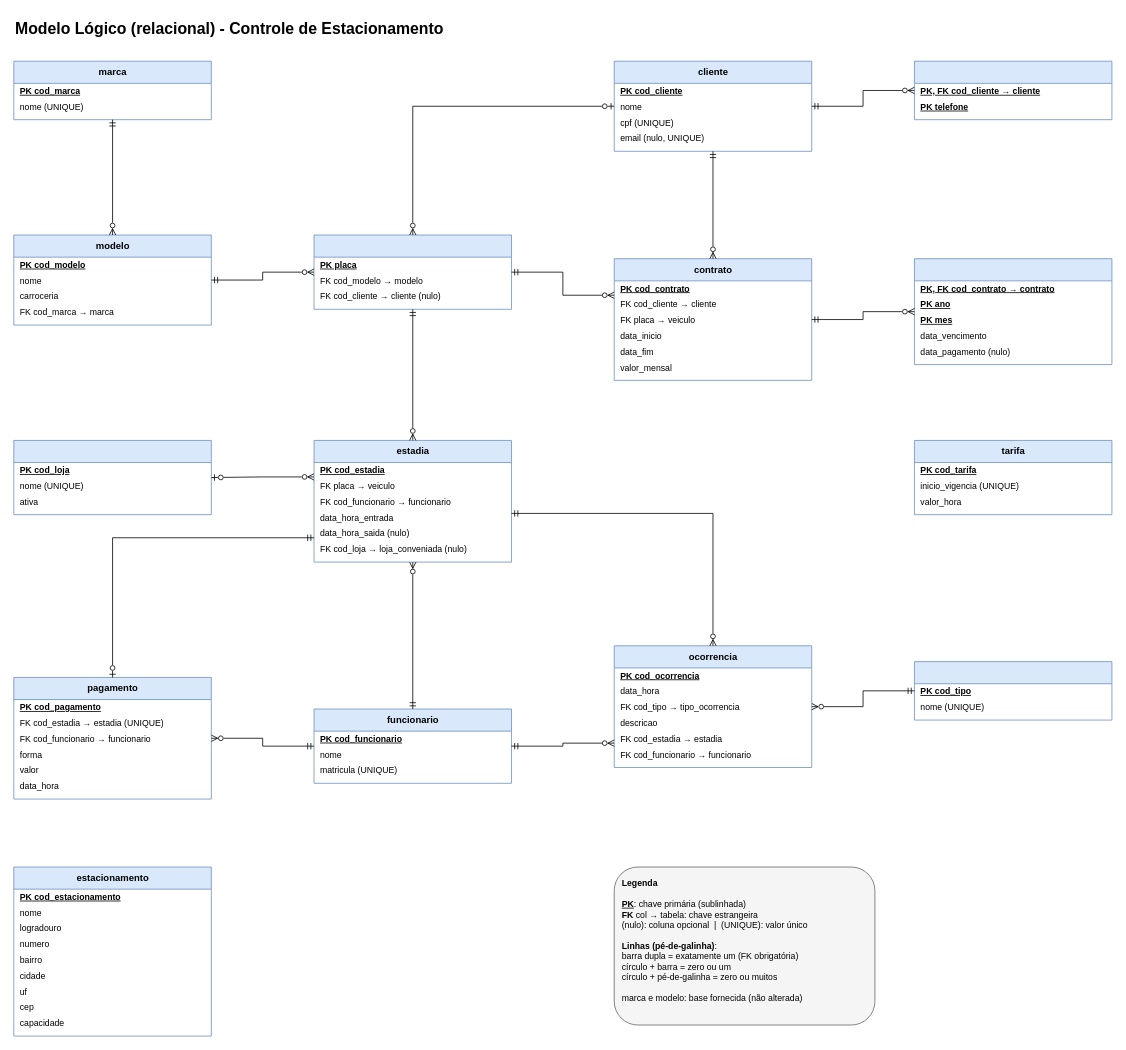
This 1126x1050 diagram has some shape labels left out. Here are the shapes that lost their labels. From the top down, the box of each, then its label:
(914, 60, 1112, 120): telefone_cliente
(313, 234, 512, 309): veiculo
(914, 258, 1112, 365): mensalidade
(13, 440, 211, 515): loja_conveniada
(914, 661, 1112, 720): tipo_ocorrencia
